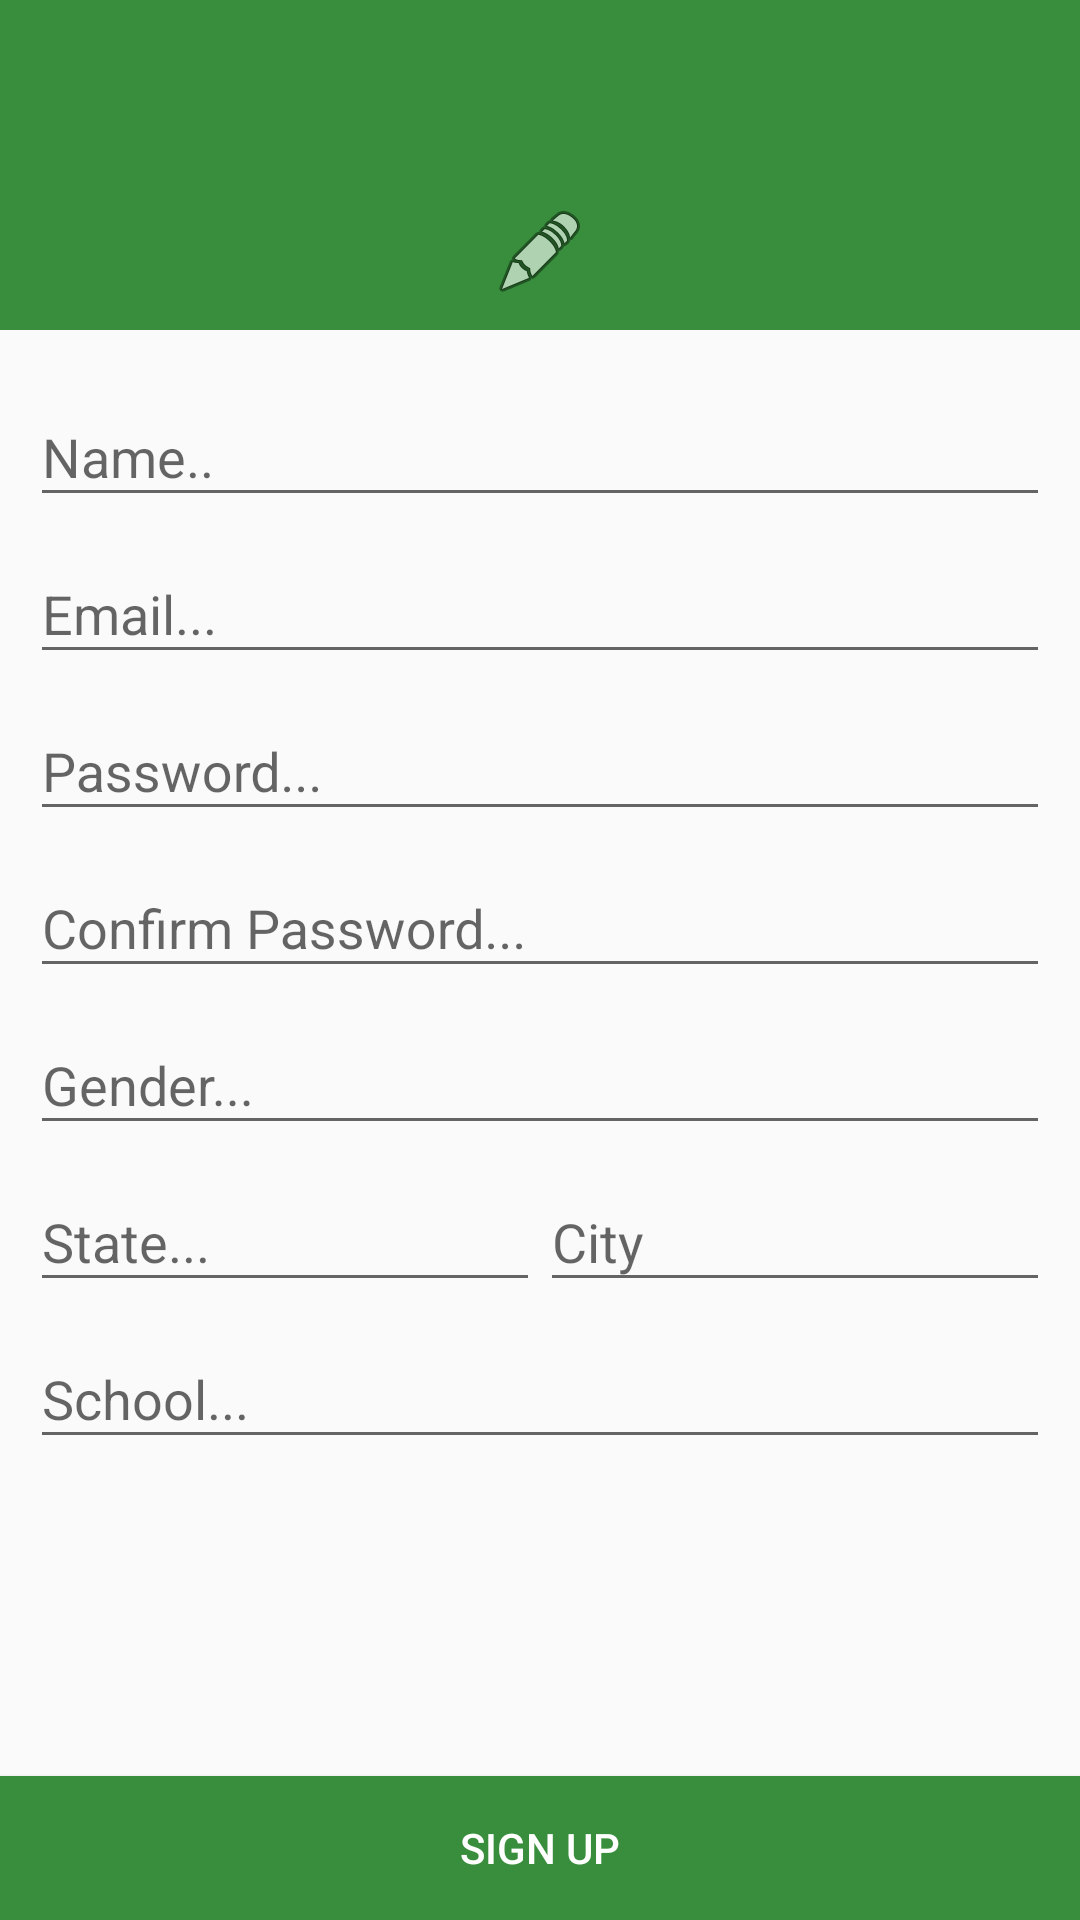

Named icons in this screenshot (1080w x 1920h) and their bounding boxes, (x1, y1, x2, y2):
edit: (499, 211, 580, 292)
